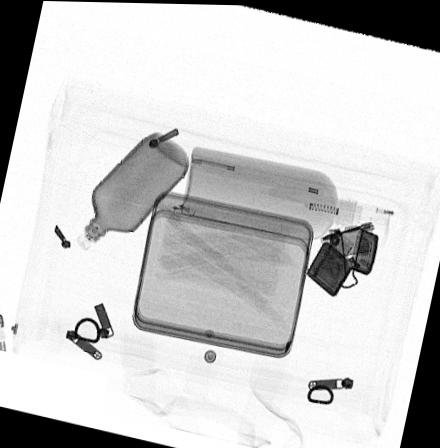Lighter: (305, 227, 378, 296)
